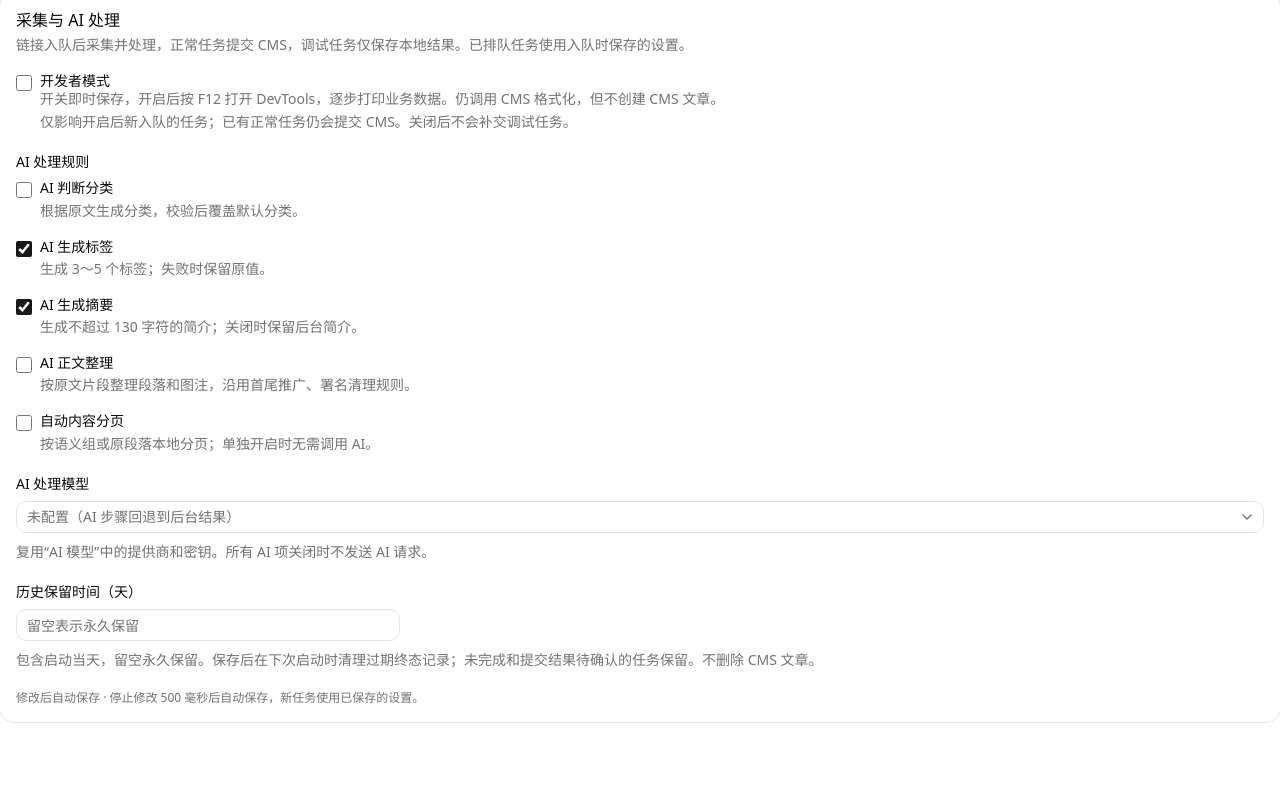
Test: 失败保留输入、停止自动重试；点击重试保存最新输入
In the field labelled "历史保留时间（天）": (208, 625) [16,609,400,641], type "30"
Wait 5500 ms
(page scrolled)
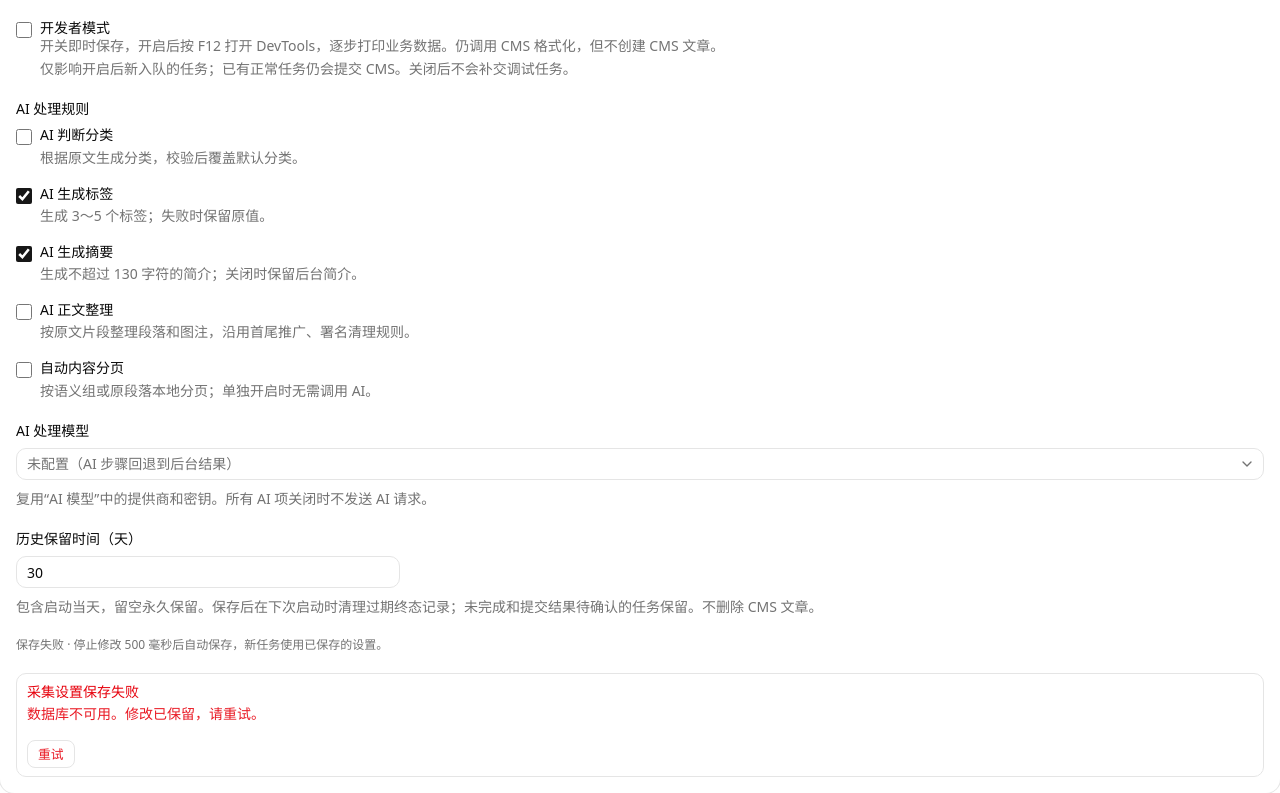
expect the message "采集设置保存失败 数据库不可用。修改已保留，请重试。 重试" is shown: met, box [16,673,1264,777]
Click the button "重试": (51, 754) [27,740,75,768]
(page scrolled)
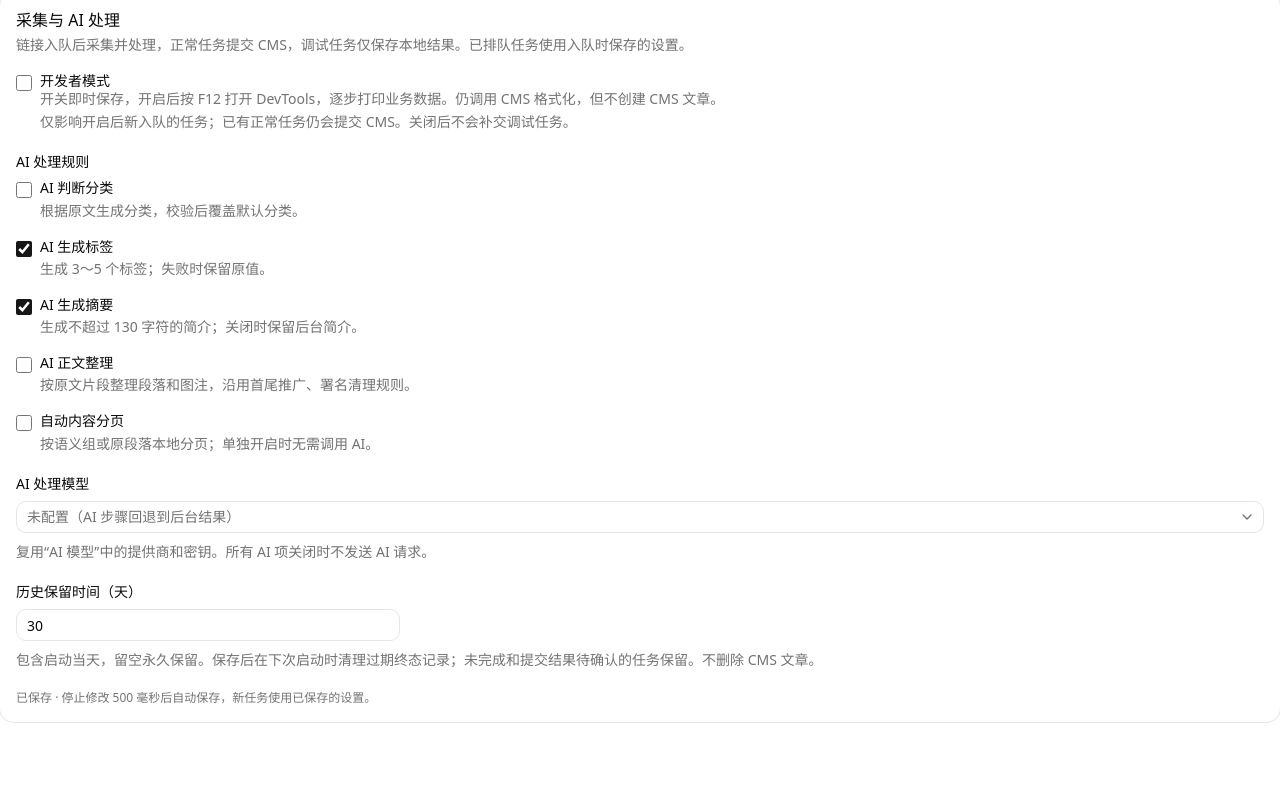
expect the message "采集设置保存失败 数据库不可用。修改已保留，请重试。 重试" is gone: met
